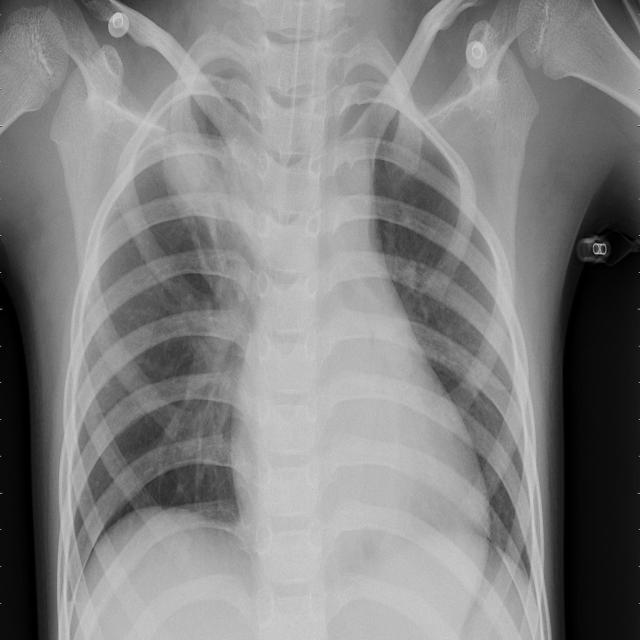high-pneumonia: (153, 103, 262, 277)
low-pneumonia: (176, 301, 248, 479)
